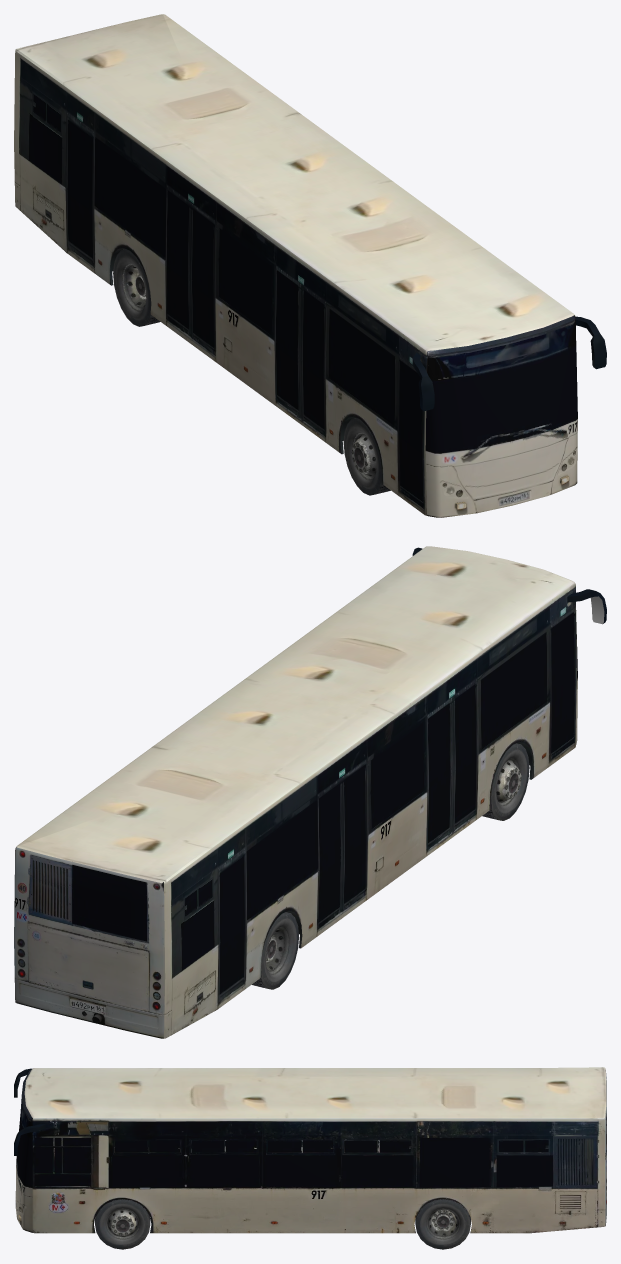
The model's file is bus-roaz.glb.
3 views of the same model, one above another, from view 1: azimuth 30°, elevation 25°; view 2: azimuth 150°, elevation 25°; view 3: azimuth 270°, elevation 25° (orthographic). The views are drawn at different scales.
Parts seen in each view (by area): view 1: Wheel_FL_BusWheel_0; view 2: Wheel_FL_BusWheel_0; view 3: Wheel_FL_BusWheel_0.
Part boxes in pixels (bbox=[...]): Wheel_FL_BusWheel_0: bbox=[14, 14, 606, 517]; Wheel_FL_BusWheel_0: bbox=[14, 546, 606, 1038]; Wheel_FL_BusWheel_0: bbox=[14, 1067, 606, 1249].
Bounding box in the file's own units: 3 × 2.96 × 12.
5 materials, 3 textured.
